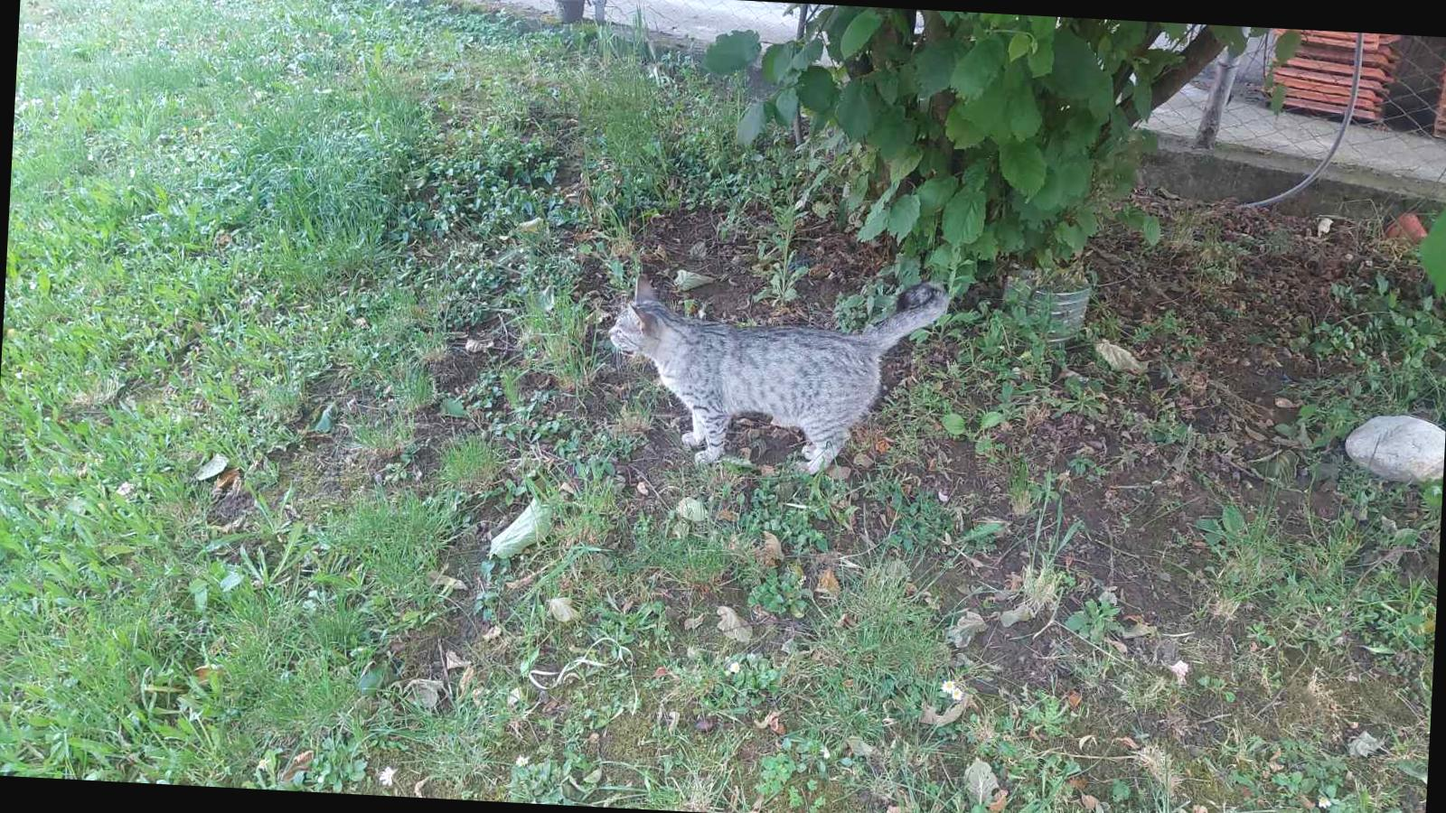macka: (601, 263, 950, 484)
